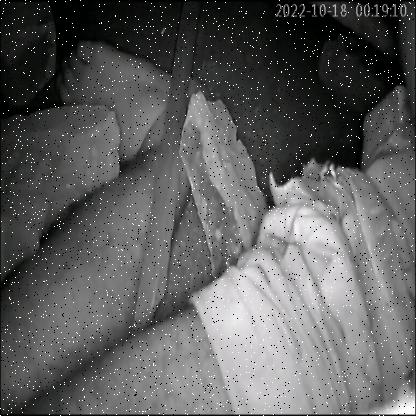leg: (48, 33, 218, 235)
